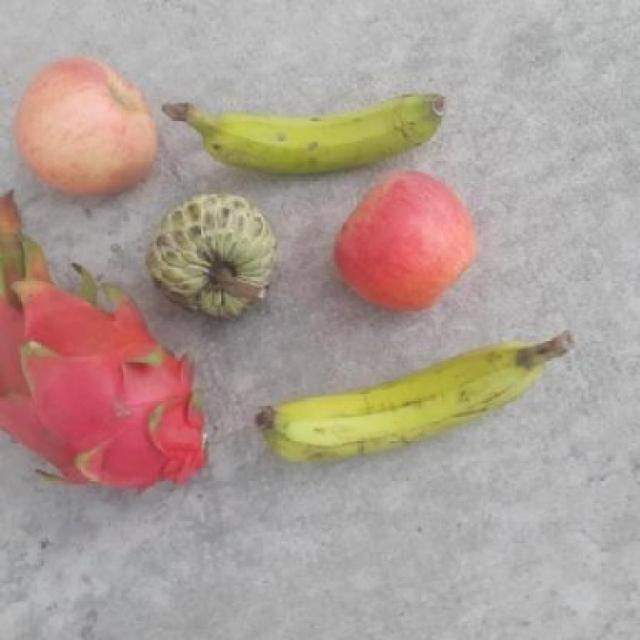apple: (333, 171, 478, 311), (12, 55, 157, 194)
banana: (259, 326, 579, 462), (158, 90, 450, 176)
dragon fruit: (1, 191, 207, 489)
sugar apple: (151, 193, 277, 319)
